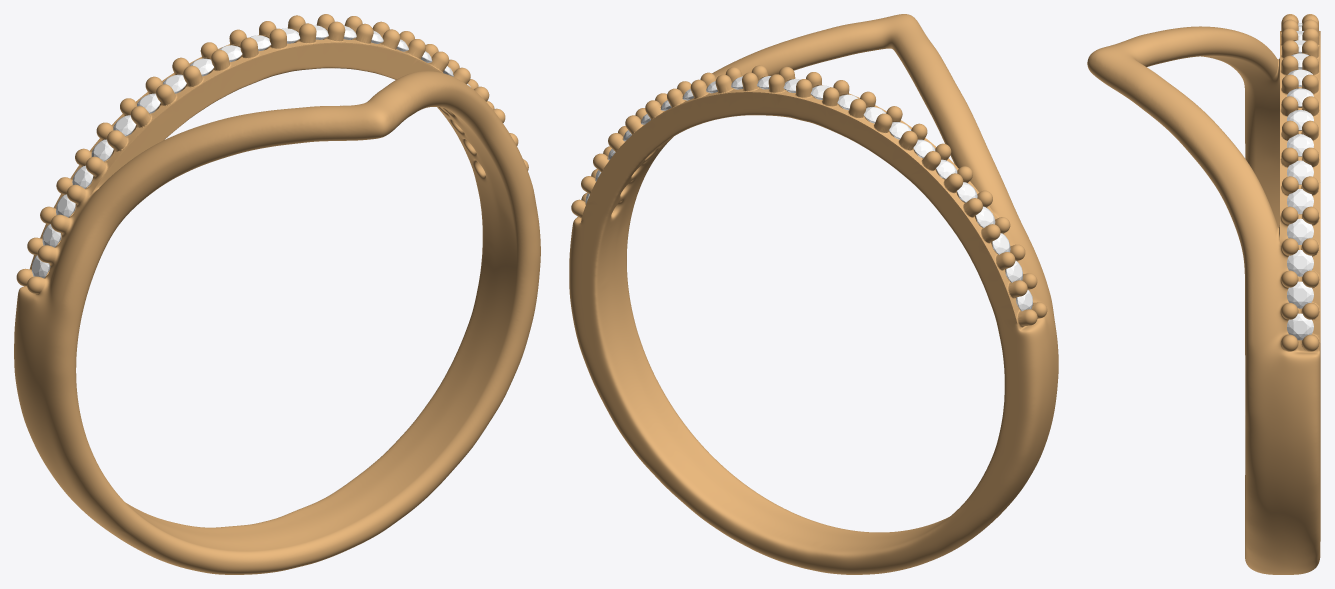
The picture shows the model from 3 angles, left to right: view 1: azimuth 30°, elevation 25°; view 2: azimuth 150°, elevation 25°; view 3: azimuth 270°, elevation 25°; orthographic projection. The views are drawn at different scales.
Parts seen in each view (by area): view 1: Rhinoceros Binary STL ( Dec 12 2023 ); view 2: Rhinoceros Binary STL ( Dec 12 2023 ); view 3: Rhinoceros Binary STL ( Dec 12 2023 ), Gems Curve (×8).
Boxes of the visible parts, x1,y1,x2,y2 form: Rhinoceros Binary STL ( Dec 12 2023 ): [14, 14, 540, 574]; Rhinoceros Binary STL ( Dec 12 2023 ): [569, 14, 1058, 574]; Rhinoceros Binary STL ( Dec 12 2023 ): [1087, 14, 1320, 574]; Gems Curve (×8): [1287, 110, 1313, 340].
Size of the model in its own units: 2.72 by 2.71 by 1.13.
